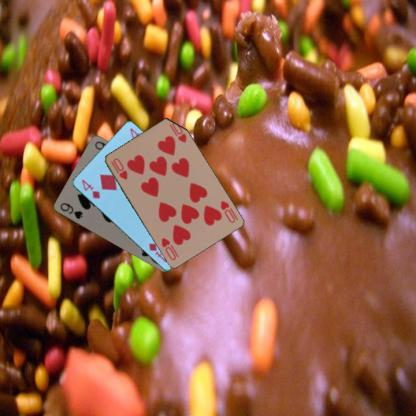10h: (108, 155, 129, 181), (218, 197, 236, 224)
4d: (79, 177, 101, 200)
9s: (57, 200, 84, 221)
